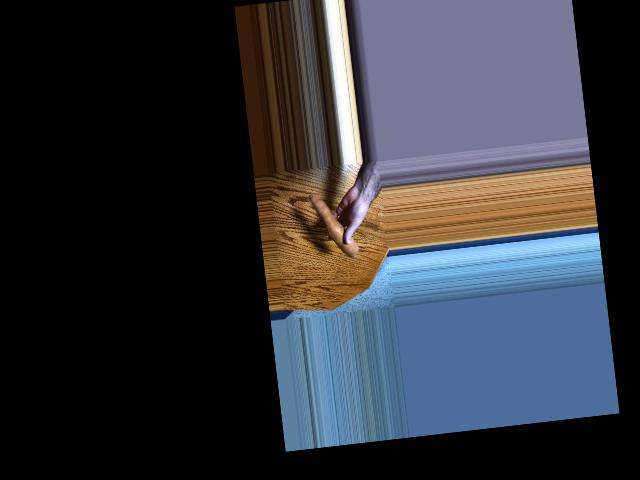sweet_potato: (313, 190, 358, 268)
